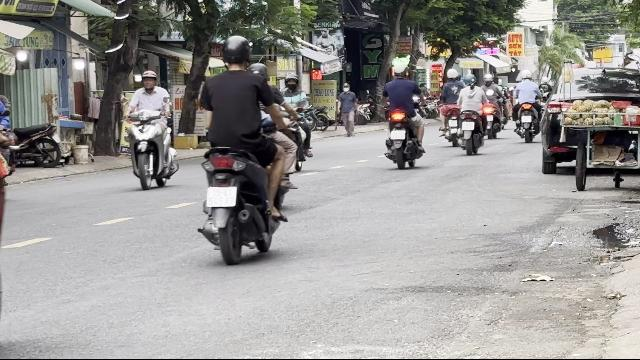helmet: (220, 34, 252, 70), (140, 69, 158, 89)
licenseplate: (207, 186, 236, 206)
motorcyclist: (194, 33, 300, 264), (122, 69, 178, 189)
